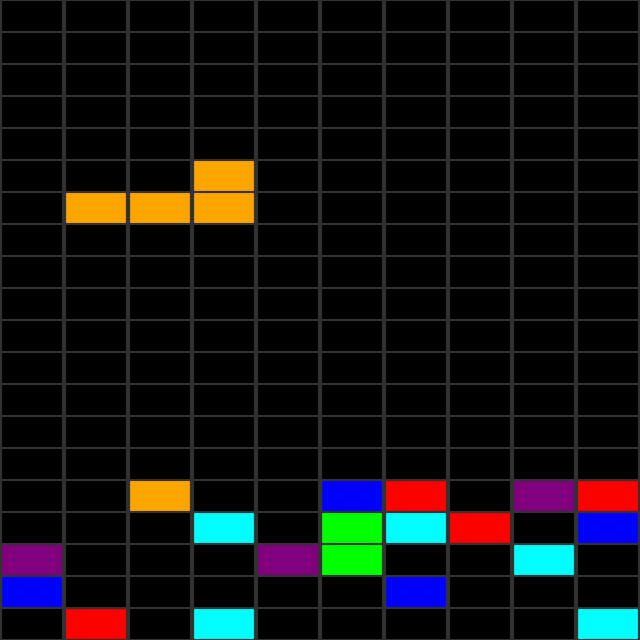Tetrimino_S: (69, 160, 257, 224)
